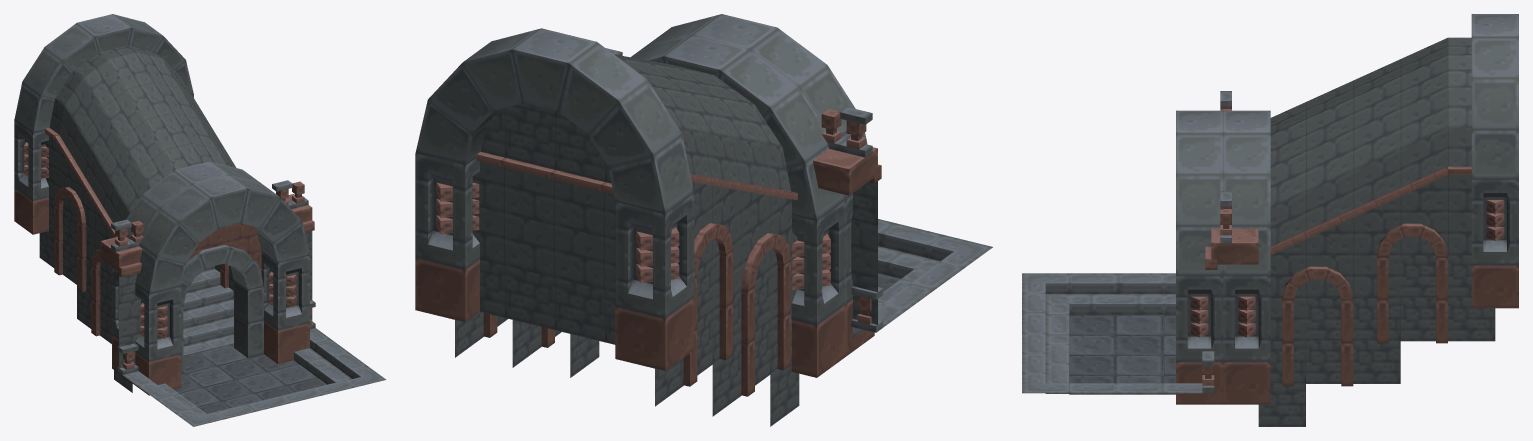
Rendered from exit_4_stairs_up_red.fbx.
3 views of the same model, side by side, from view 1: azimuth 30°, elevation 25°; view 2: azimuth 150°, elevation 25°; view 3: azimuth 270°, elevation 25° (orthographic). The views are drawn at different scales.
Visible parts, largest first — view 1: exit_4_stairs_up_red; view 2: exit_4_stairs_up_red; view 3: exit_4_stairs_up_red.
Boxes of the visible parts, x1,y1,x2,y2 form: exit_4_stairs_up_red: [14, 14, 386, 426]; exit_4_stairs_up_red: [415, 14, 992, 426]; exit_4_stairs_up_red: [1022, 14, 1518, 426].
Size of the model in its own units: 96 by 135 by 168.
